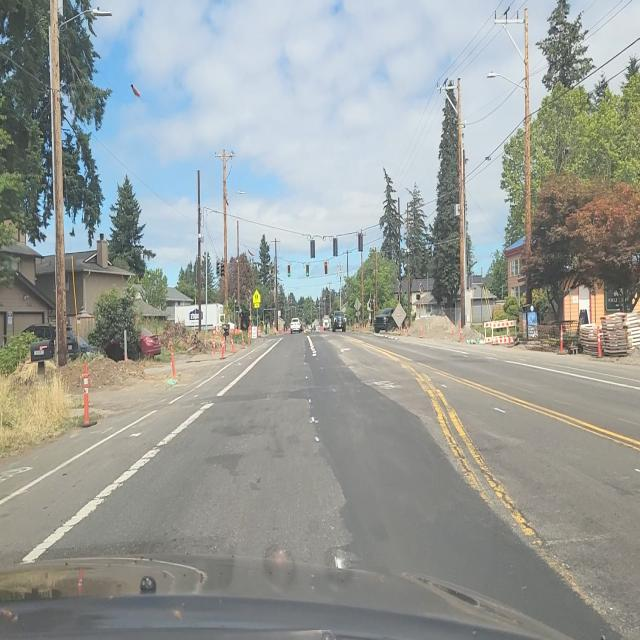car: (24, 322, 92, 362), (108, 331, 160, 362), (374, 309, 396, 334), (332, 310, 346, 332), (222, 321, 238, 337), (290, 317, 302, 333)
crosswalk-sign: (253, 292, 261, 341), (252, 290, 260, 307)
delineator: (80, 356, 98, 428), (170, 345, 178, 380), (220, 332, 226, 358), (212, 325, 217, 353), (230, 332, 236, 354), (597, 325, 601, 358), (560, 324, 564, 354), (247, 328, 252, 343), (241, 328, 245, 346), (459, 324, 463, 342), (419, 323, 423, 338), (406, 322, 410, 337), (258, 324, 262, 338), (214, 323, 218, 335), (508, 332, 511, 345), (320, 324, 324, 333), (452, 322, 454, 338), (362, 322, 366, 330), (354, 324, 358, 331)
